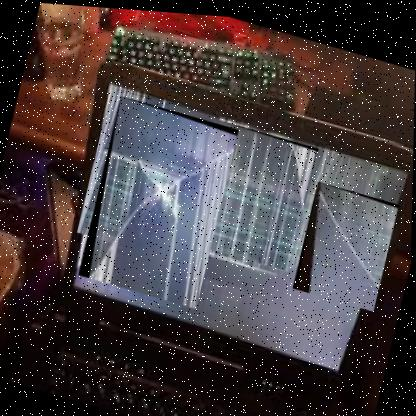crack: (79, 92, 240, 309), (293, 175, 400, 308)
lines: (187, 114, 320, 270), (77, 83, 153, 244)
